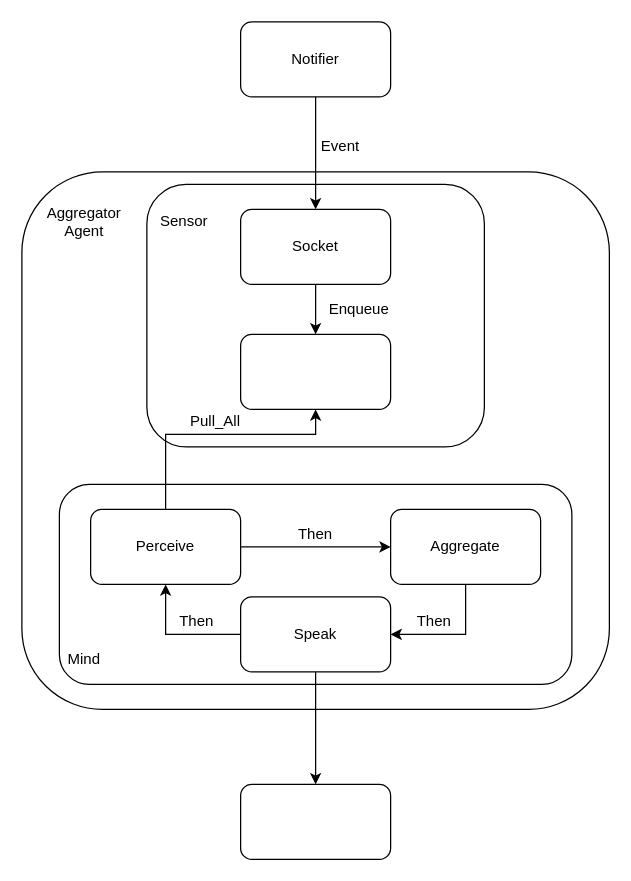
Some shapes in this 631 by 881 pixel diagram are drawn without their labels. Each missing label, with the centre of its shape:
ManagerAgent: [315,821]
Queue: [315,371]
